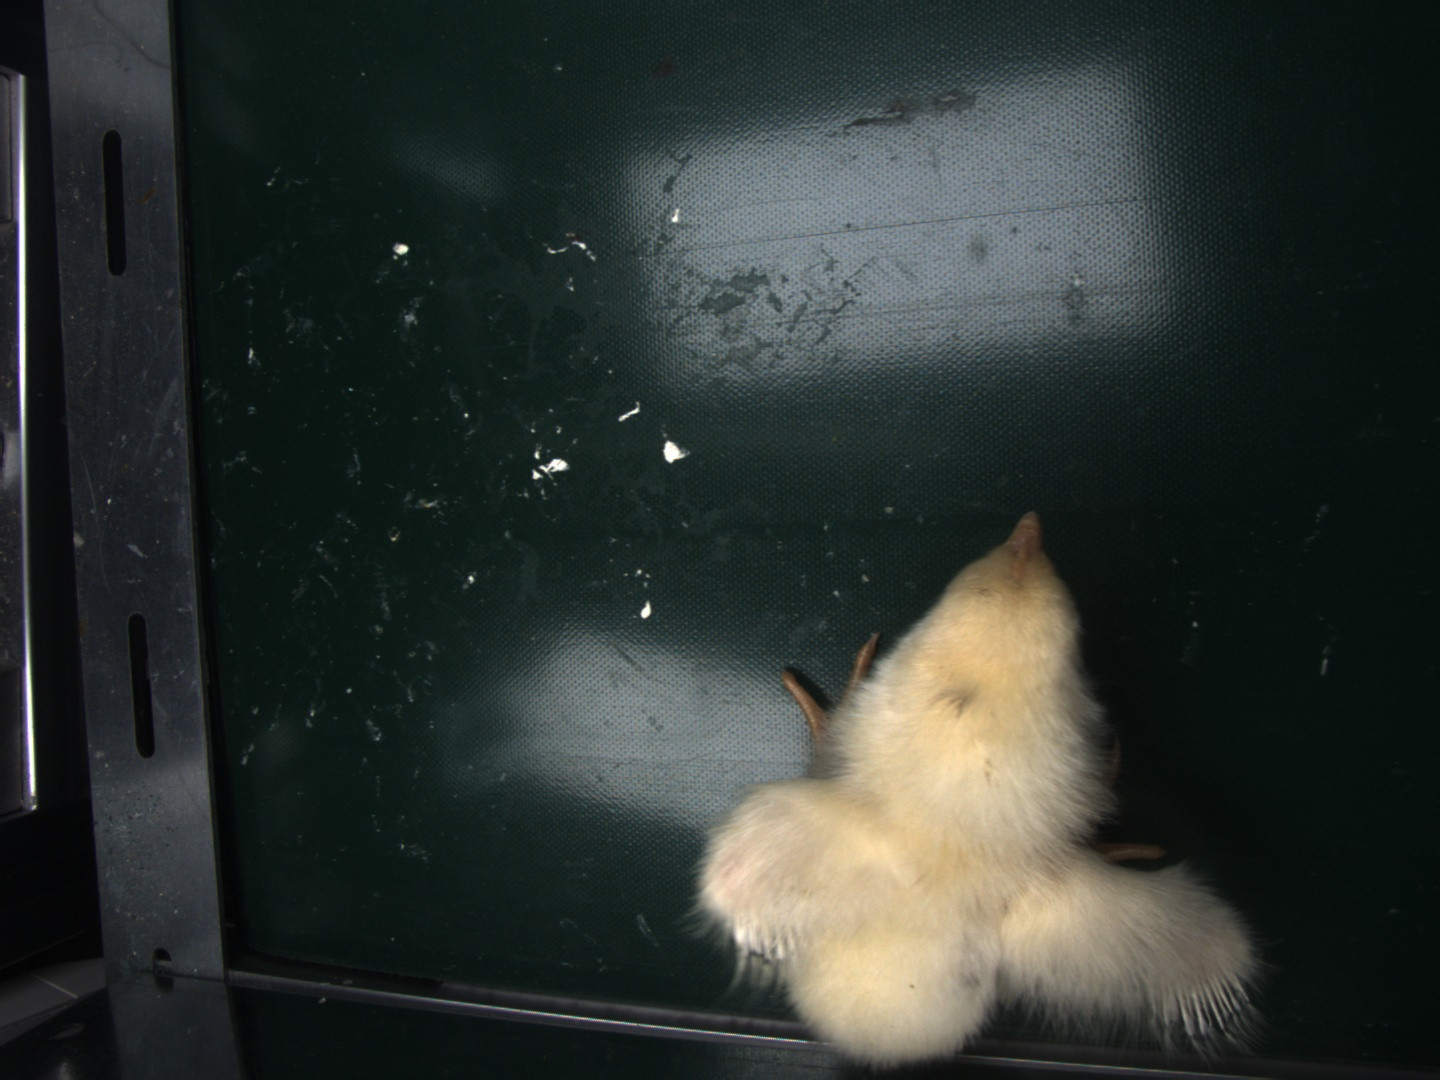male: (1160, 967, 1256, 1040)
